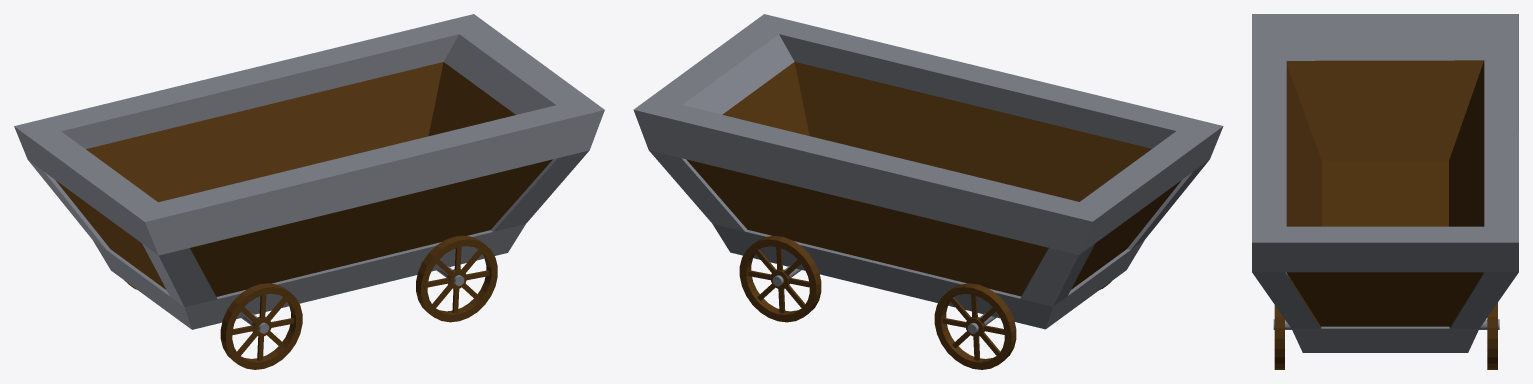
The model's file is Carreta.fbx.
3 renders of one model, left to right at view 1: azimuth 30°, elevation 25°; view 2: azimuth 150°, elevation 25°; view 3: azimuth 270°, elevation 25°, orthographic.
Visible parts, largest first — view 1: BaseCarreta, Rueda3.001, Rueda; view 2: BaseCarreta, Rueda4, Rueda2; view 3: BaseCarreta, Rueda2, Rueda.
Boxes of the visible parts, bbox=[...] form: BaseCarreta: bbox=[14, 14, 604, 329]; Rueda3.001: bbox=[220, 283, 302, 369]; Rueda: bbox=[416, 235, 497, 322]; BaseCarreta: bbox=[633, 14, 1223, 329]; Rueda4: bbox=[934, 283, 1016, 369]; Rueda2: bbox=[739, 236, 821, 322]; BaseCarreta: bbox=[1252, 14, 1518, 352]; Rueda2: bbox=[1487, 303, 1497, 369]; Rueda: bbox=[1274, 305, 1284, 369].
Bounding box in the file's own units: 203 × 78.61 × 100.
7 materials, 7 textured.
